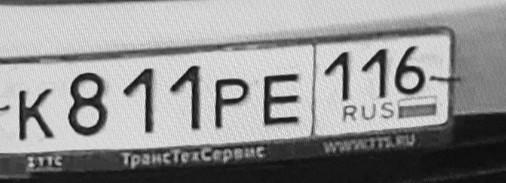license-plateSW: (0, 26, 453, 156)
